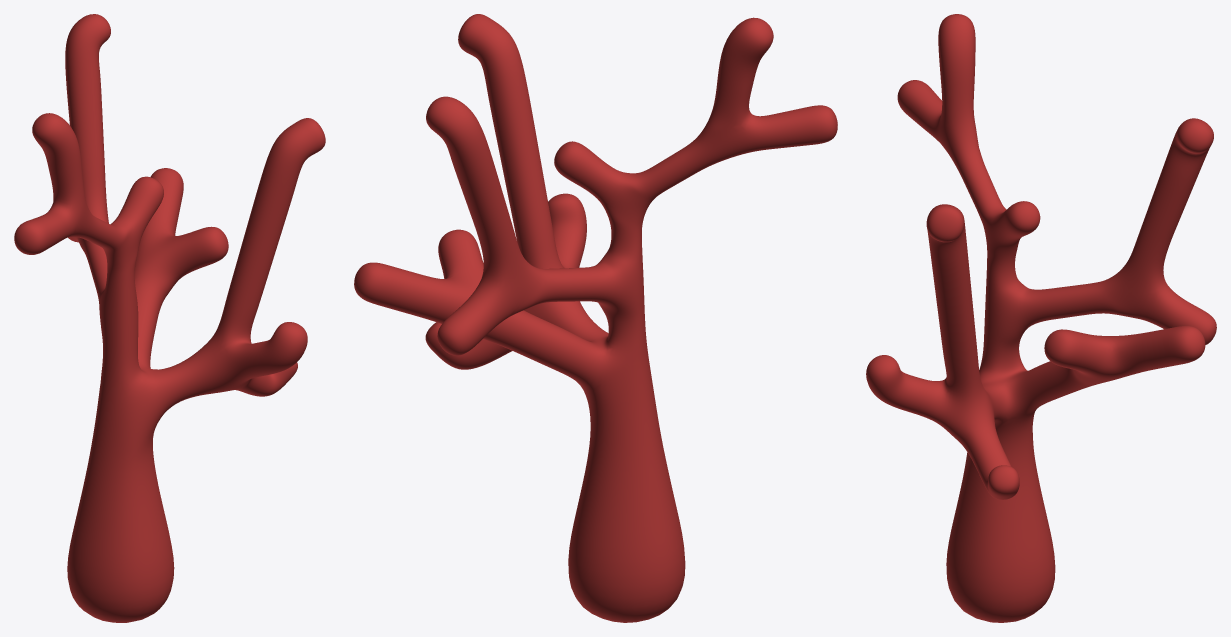
Rendered from coral 1.fbx.
3 renders of one model, left to right at view 1: azimuth 30°, elevation 25°; view 2: azimuth 150°, elevation 25°; view 3: azimuth 270°, elevation 25°, orthographic. The views are drawn at different scales.
Parts seen in each view (by area): view 1: Coral 1; view 2: Coral 1; view 3: Coral 1.
Boxes of the visible parts, x1,y1,x2,y2 form: Coral 1: (14, 14, 325, 622); Coral 1: (354, 14, 837, 622); Coral 1: (866, 14, 1216, 622).
Size of the model in its own units: 135 by 216 by 124.
